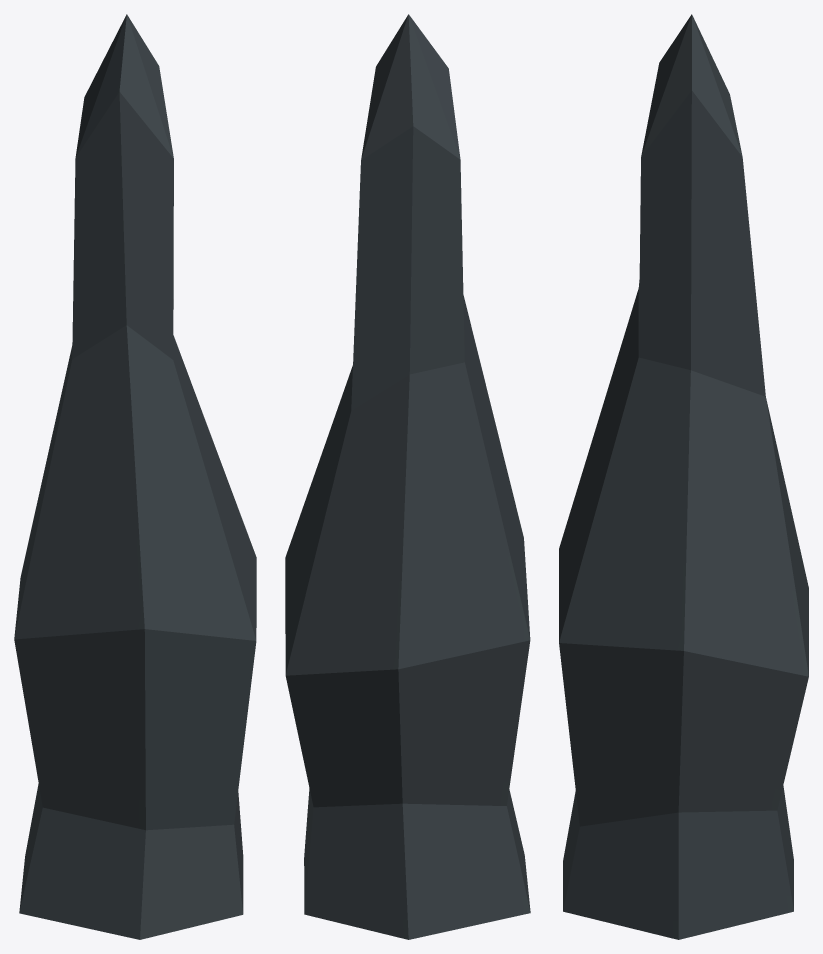
Rendered from Stalagmite-C08.fbx.
3 renders of one model, left to right at view 1: azimuth 30°, elevation 25°; view 2: azimuth 150°, elevation 25°; view 3: azimuth 270°, elevation 25°, orthographic.
Parts seen in each view (by area): view 1: Stalagmite-C08; view 2: Stalagmite-C08; view 3: Stalagmite-C08.
Boxes of the visible parts, x1=… form: Stalagmite-C08: x1=14, y1=14, x2=256, y2=939; Stalagmite-C08: x1=285, y1=14, x2=530, y2=939; Stalagmite-C08: x1=559, y1=14, x2=808, y2=939.
Bounding box in the file's own units: 66.76 × 228 × 59.23.
